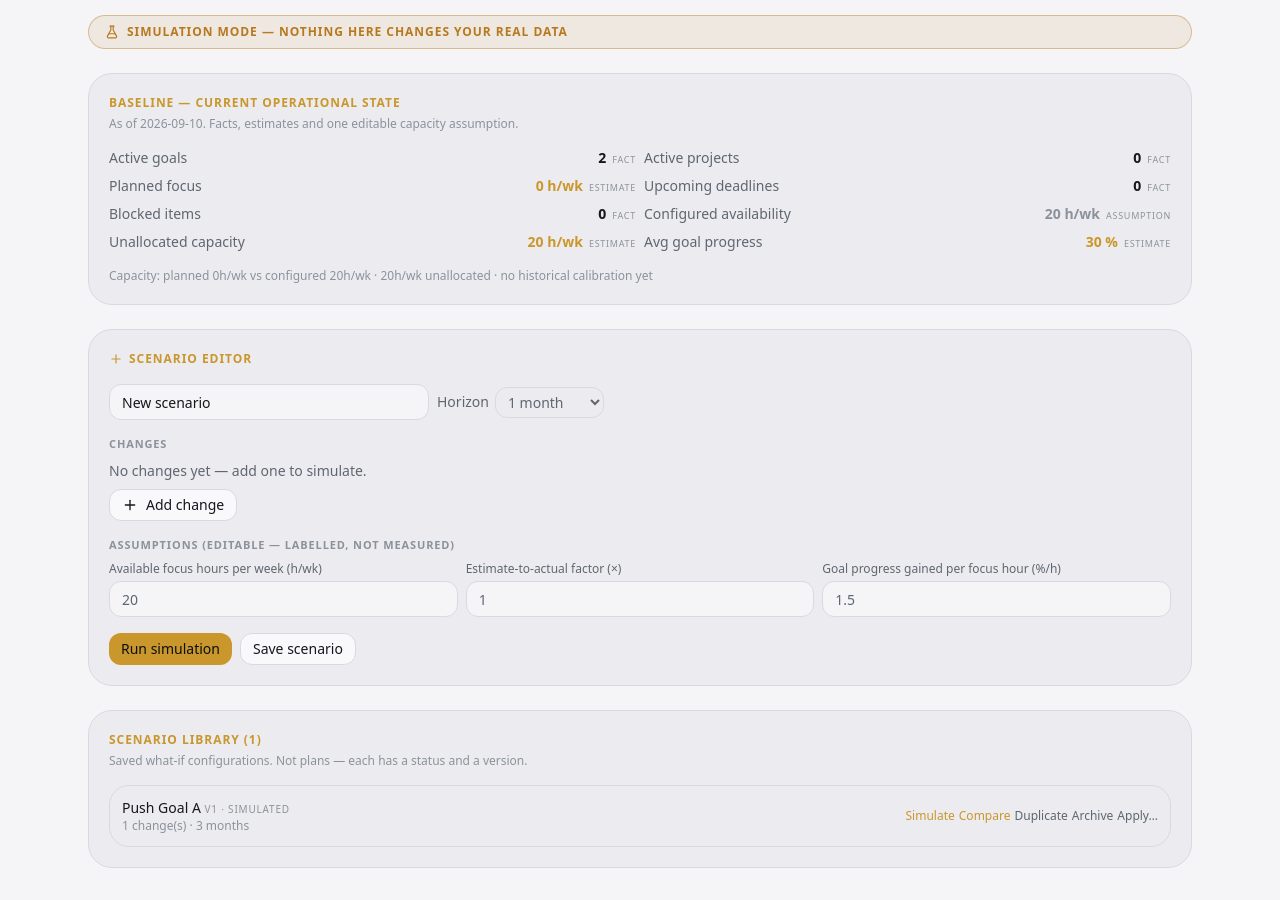
Scenario: SimulationView › compares a saved scenario against the baseline in a table
(page scrolled)
Click the button "Compare": (985, 816) [959,808,1010,824]
(page scrolled)
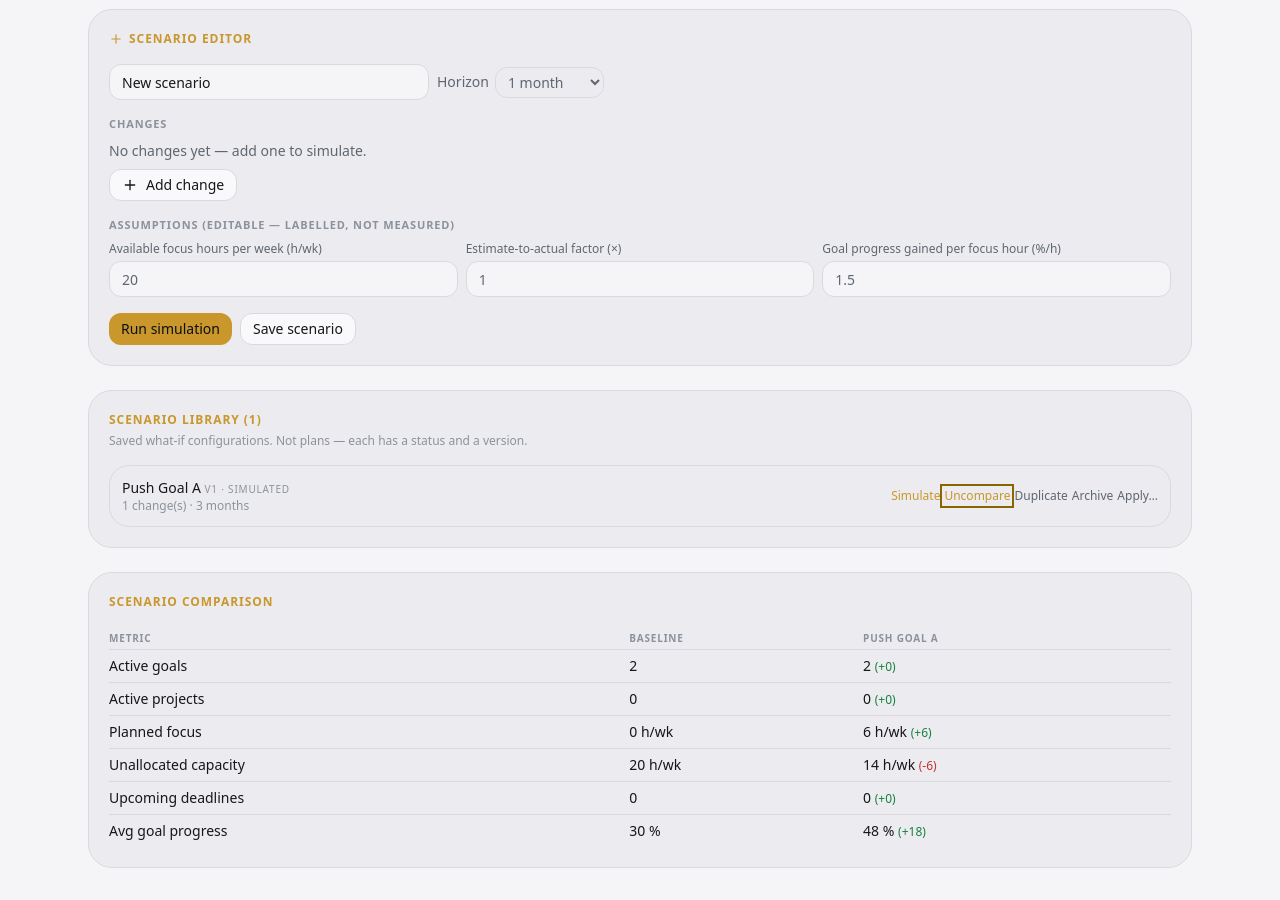
Result: the heading "Scenario comparison" is shown at [109,593,274,610]
Result: the column heading "Push Goal A" is shown at [863,627,1171,650]
